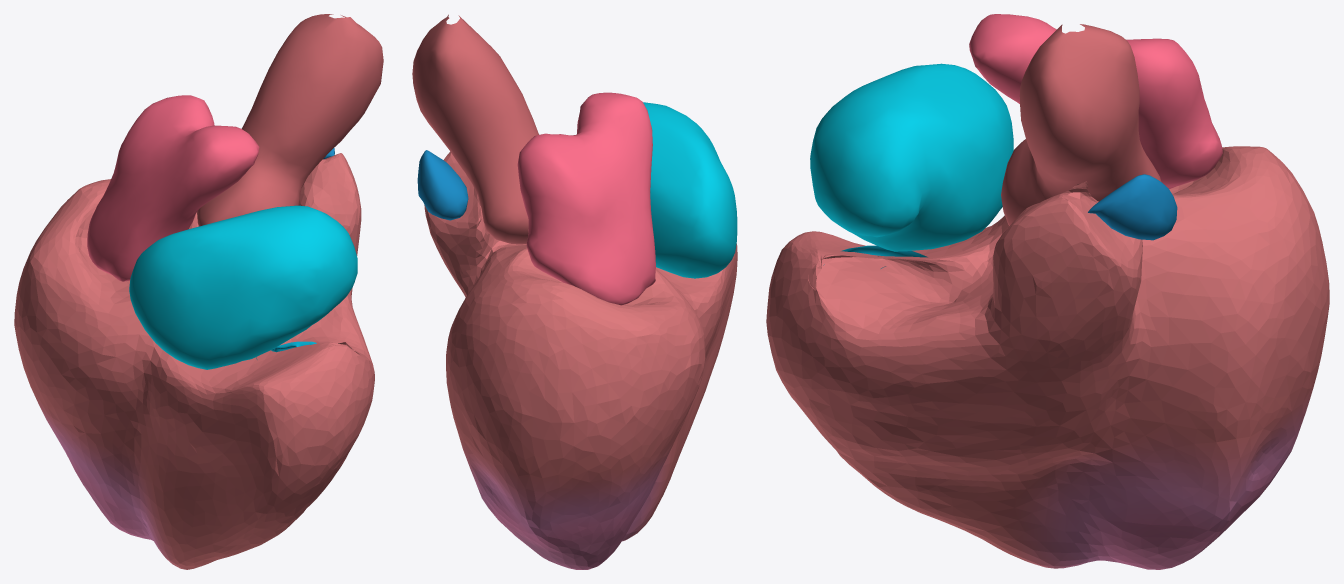
The model's file is frame_44.glb.
3 views of the same model, side by side, from view 1: azimuth 30°, elevation 25°; view 2: azimuth 150°, elevation 25°; view 3: azimuth 270°, elevation 25° (orthographic). The views are drawn at different scales.
Parts seen in each view (by area): view 1: Renderer Node; view 2: Renderer Node; view 3: Renderer Node.
Boxes of the visible parts, x1,y1,x2,y2 form: Renderer Node: (14, 14, 383, 569); Renderer Node: (412, 14, 737, 569); Renderer Node: (766, 14, 1329, 569).
Size of the model in its own units: 102 by 159 by 126.
